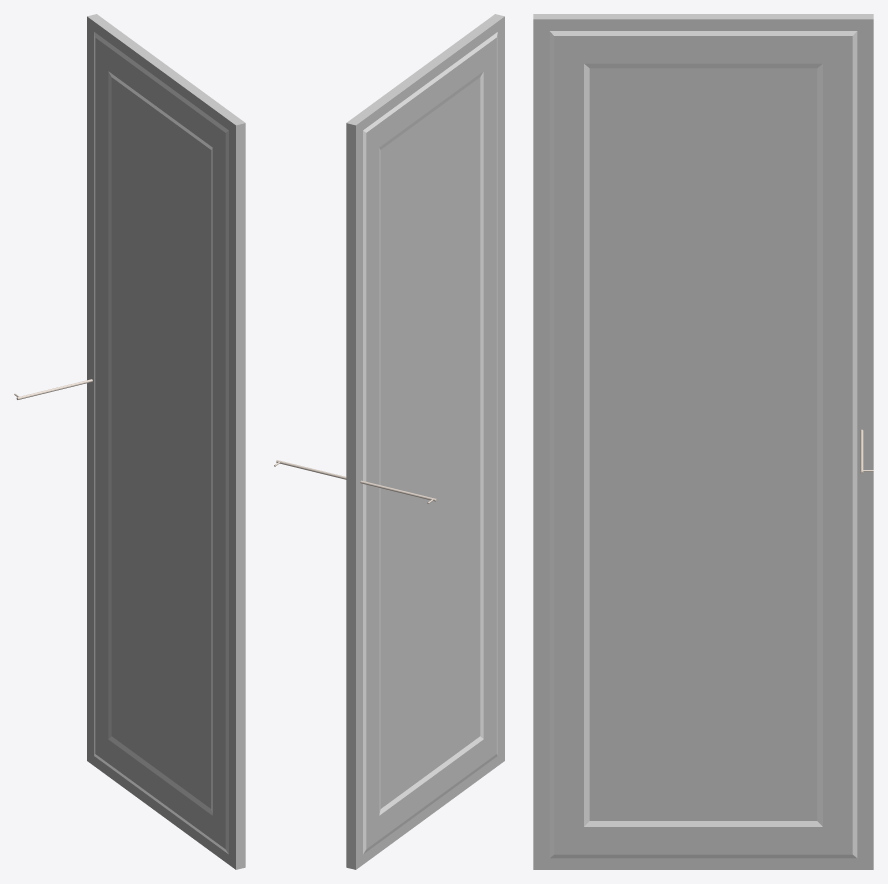
File: ShowerDoor_7fe7b00c.obj
3 renders of one model, left to right at view 1: azimuth 30°, elevation 25°; view 2: azimuth 150°, elevation 25°; view 3: azimuth 270°, elevation 25°, orthographic. The views are drawn at different scales.
Visible parts, largest first — view 1: FP410:polySurface386_fd27ccbf; view 2: FP410:polySurface386_fd27ccbf, handle_1_600mm_01_c78162653; view 3: FP410:polySurface386_fd27ccbf.
Part boxes in pixels (<box>): FP410:polySurface386_fd27ccbf: <box>87,14,245,869</box>; FP410:polySurface386_fd27ccbf: <box>346,14,504,869</box>; handle_1_600mm_01_c78162653: <box>274,460,436,503</box>; FP410:polySurface386_fd27ccbf: <box>533,14,873,869</box>.
Size of the model in its own units: 0.6 by 2.68 by 0.9717.
